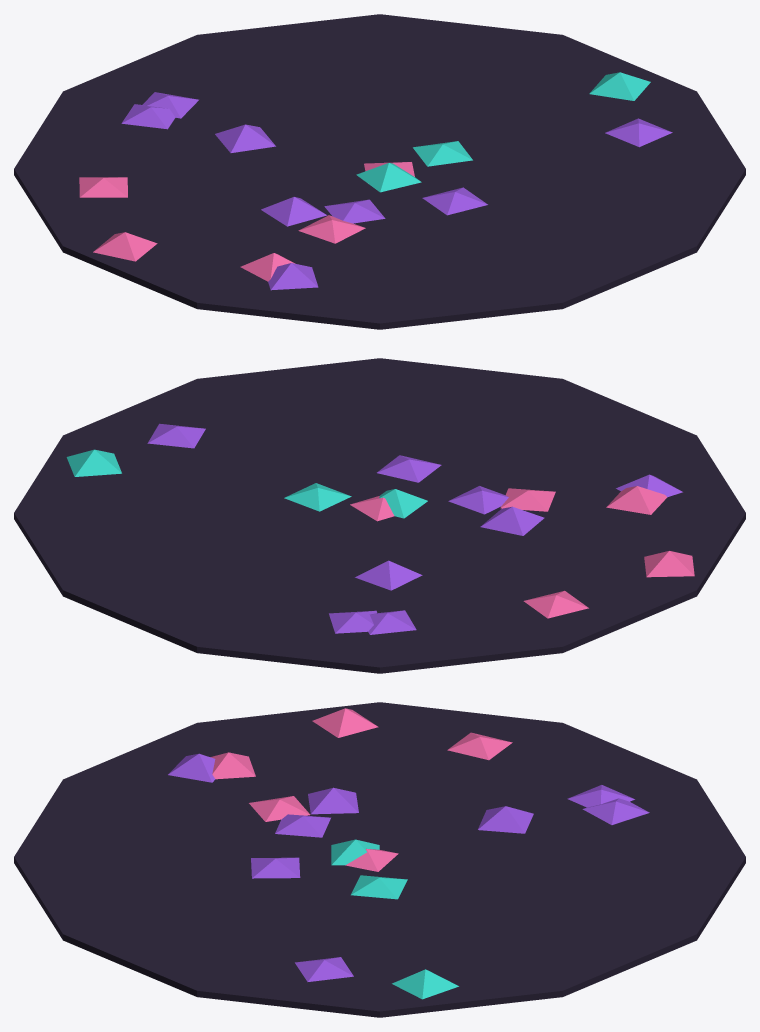
The model's file is env_r12_crystal_shards.glb.
3 views of the same model, one above another, from view 1: azimuth 30°, elevation 25°; view 2: azimuth 150°, elevation 25°; view 3: azimuth 270°, elevation 25° (orthographic).
Visible parts, largest first — view 1: env_r12_crystal_shards; view 2: env_r12_crystal_shards; view 3: env_r12_crystal_shards.
Part boxes in pixels (x1,y1,x2,y2): env_r12_crystal_shards: [14, 14, 745, 329]; env_r12_crystal_shards: [14, 358, 745, 673]; env_r12_crystal_shards: [14, 702, 745, 1017].
Size of the model in its own units: 3 by 0.1 by 3.
1 material, 1 textured.
